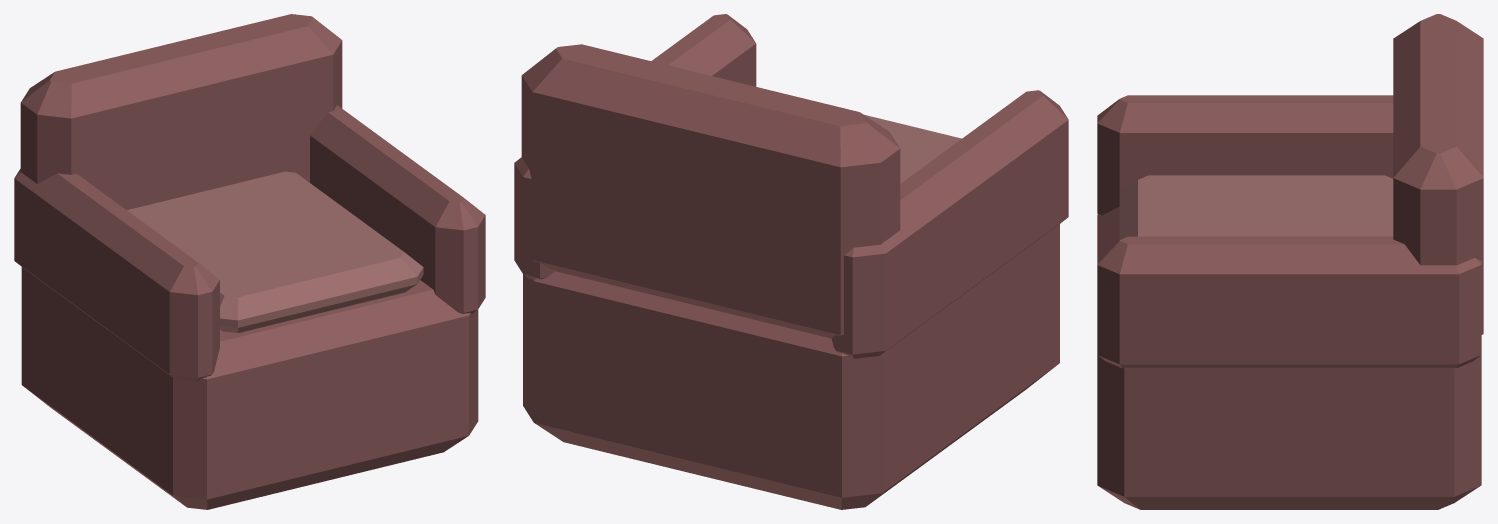
Rendered from armchair.glb.
3 renders of one model, left to right at view 1: azimuth 30°, elevation 25°; view 2: azimuth 150°, elevation 25°; view 3: azimuth 270°, elevation 25°, orthographic. The views are drawn at different scales.
Parts seen in each view (by area): view 1: armchair; view 2: armchair; view 3: armchair.
Part boxes in pixels (<box>): armchair: <box>14,14,485,509</box>; armchair: <box>514,14,1068,509</box>; armchair: <box>1097,14,1483,509</box>.
Bounding box in the file's own units: 0.88 × 0.87 × 0.855.
